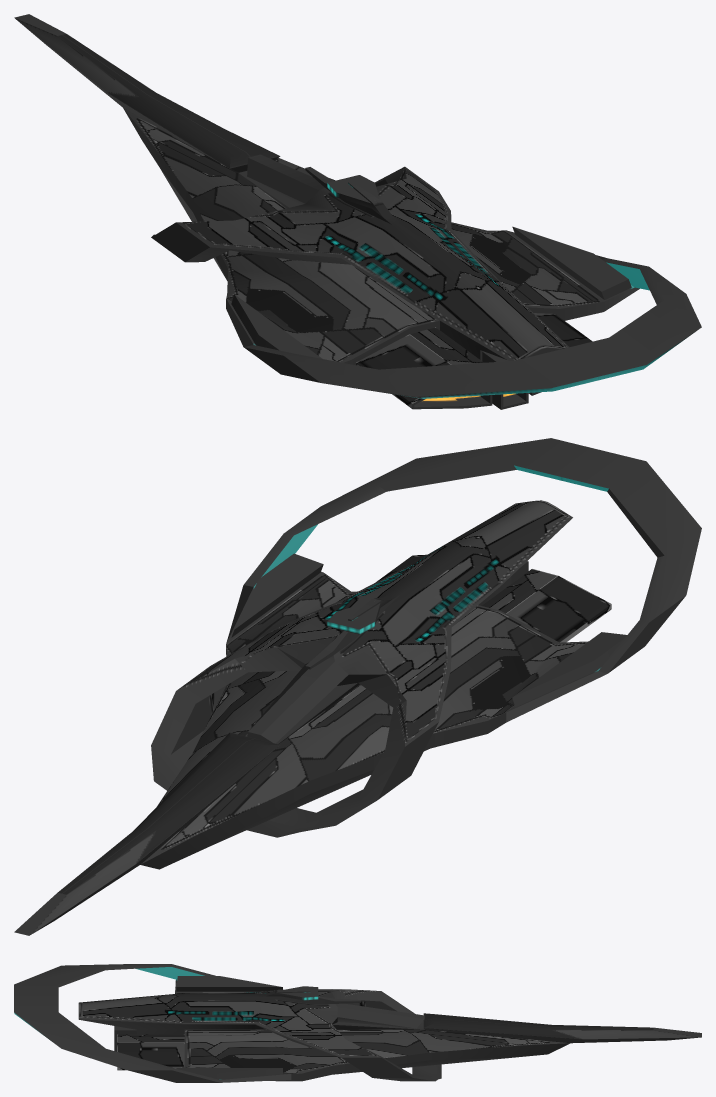
Rendered from Retribution.fbx.
3 views of the same model, one above another, from view 1: azimuth 30°, elevation 25°; view 2: azimuth 150°, elevation 25°; view 3: azimuth 270°, elevation 25° (orthographic). The views are drawn at different scales.
Parts seen in each view (by area): view 1: Cube; view 2: Cube; view 3: Cube.
Part boxes in pixels (x1,y1,x2,y2): Cube: [14, 14, 701, 409]; Cube: [14, 438, 701, 935]; Cube: [14, 964, 701, 1082].
Size of the model in its own units: 4915 by 1655 by 13451.
1 material, 1 textured.
